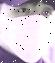with_mask: (1, 2, 55, 63)
